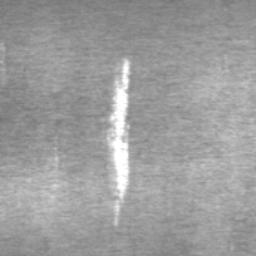White rust: (106, 57, 132, 228)
